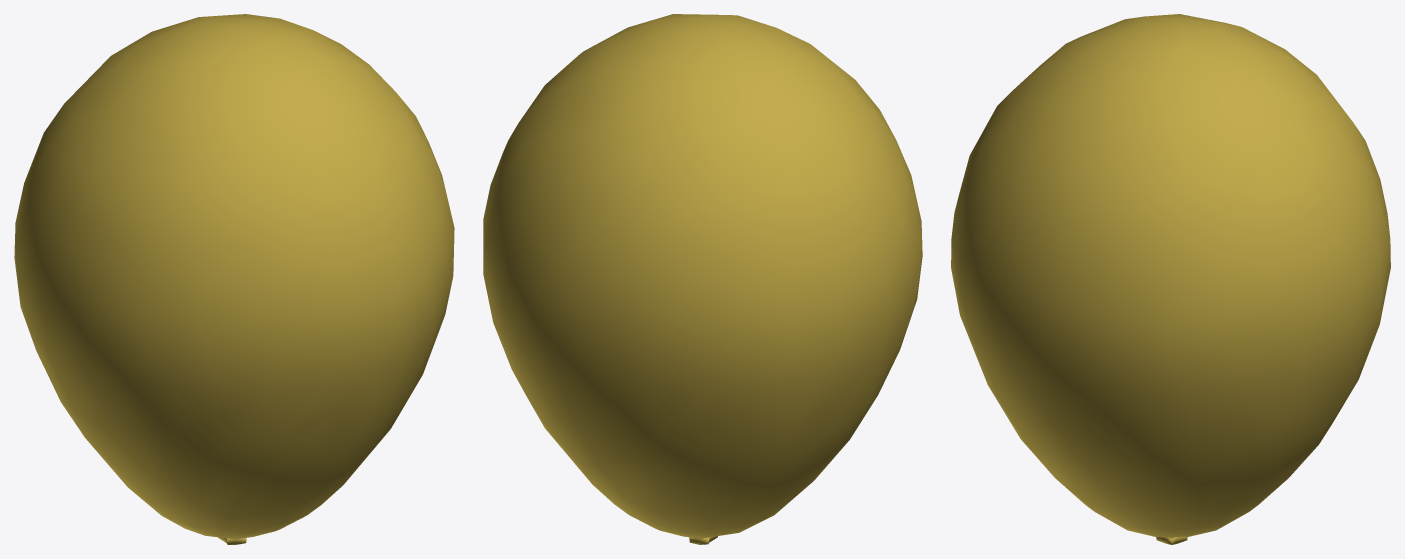
The model's file is BalloonYellow.fbx.
3 views of the same model, side by side, from view 1: azimuth 30°, elevation 25°; view 2: azimuth 150°, elevation 25°; view 3: azimuth 270°, elevation 25° (orthographic).
Parts seen in each view (by area): view 1: Balloon; view 2: Balloon; view 3: Balloon.
Part boxes in pixels (x1,y1,x2,y2): Balloon: (14, 14, 454, 544); Balloon: (483, 14, 922, 544); Balloon: (951, 14, 1390, 544).
Size of the model in its own units: 95.69 by 122 by 95.56.
Materials: 1 (1 with a texture image).
